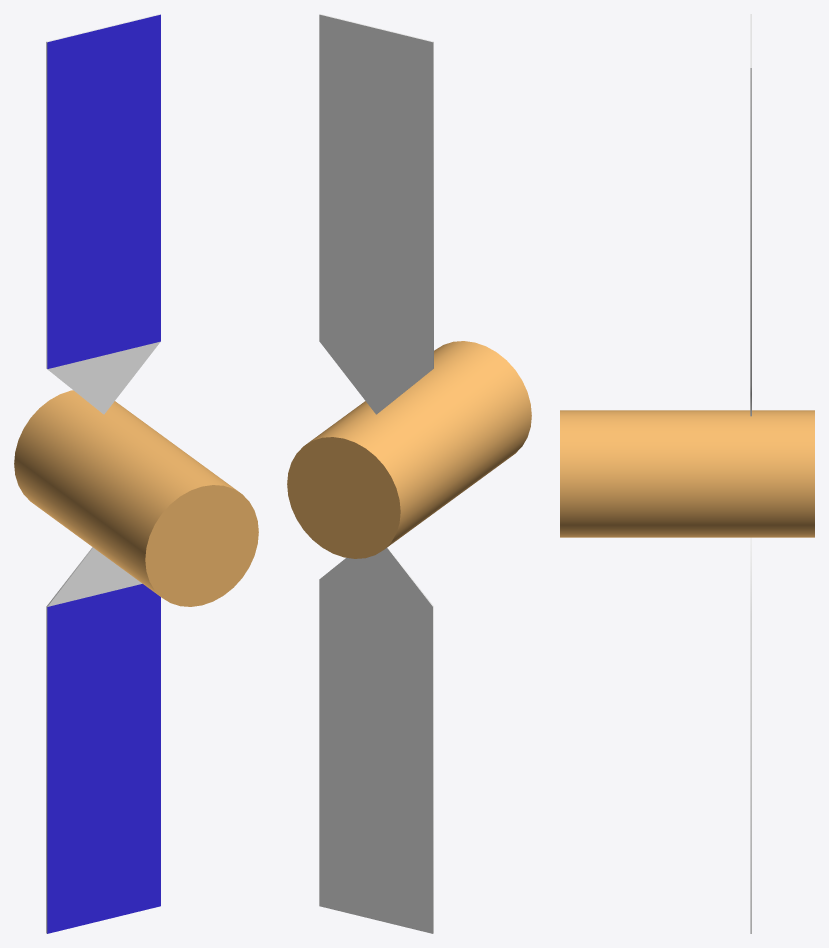
The model's file is ARC_Target.obj.
3 renders of one model, left to right at view 1: azimuth 30°, elevation 25°; view 2: azimuth 150°, elevation 25°; view 3: azimuth 270°, elevation 25°, orthographic. The views are drawn at different scales.
Visible parts, largest first — view 1: Solar Array +Y, Solar Array -Y, Body; view 2: Solar Array +Y, Solar Array -Y, Body; view 3: Body, Solar Array +Y, Solar Array -Y.
Part boxes in pixels (box(x1,y1,x2,y2)): Solar Array +Y: box(46, 14, 160, 414); Solar Array -Y: box(46, 547, 160, 933); Body: box(14, 390, 258, 606); Solar Array +Y: box(319, 14, 433, 414); Solar Array -Y: box(319, 547, 433, 933); Body: box(287, 341, 531, 558); Body: box(560, 410, 814, 537); Solar Array +Y: box(750, 14, 751, 416); Solar Array -Y: box(750, 537, 751, 933).
Bounding box in the file's own units: 2 × 15 × 4.
